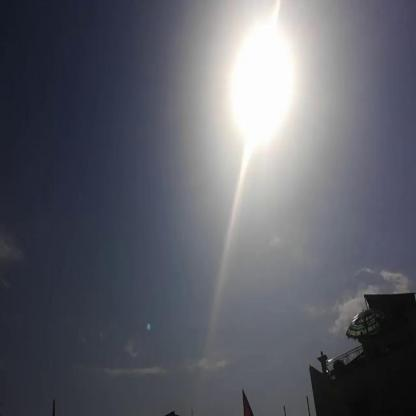other: (213, 9, 314, 176)
